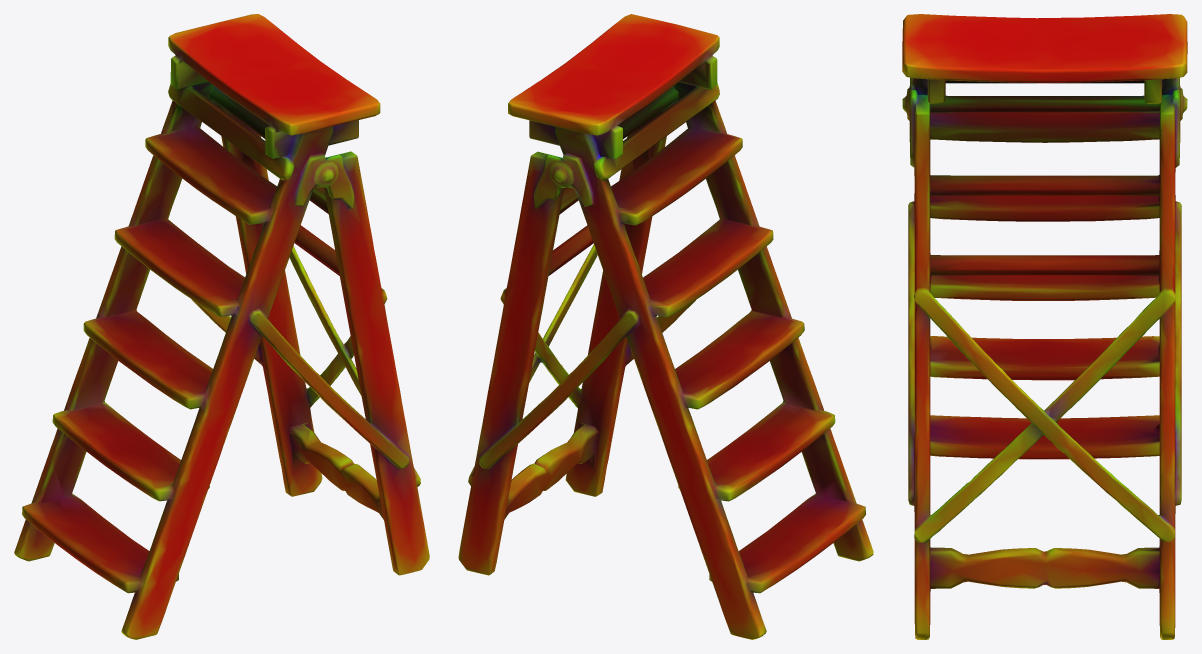
File: StepLadder.fbx
3 renders of one model, left to right at view 1: azimuth 30°, elevation 25°; view 2: azimuth 150°, elevation 25°; view 3: azimuth 270°, elevation 25°, orthographic. The views are drawn at different scales.
Parts seen in each view (by area): view 1: transform1; view 2: transform1; view 3: transform1.
Boxes of the visible parts, <box> form: transform1: <box>14,14,429,639</box>; transform1: <box>458,14,873,639</box>; transform1: <box>902,14,1187,639</box>.
Bounding box in the file's own units: 107 × 76.19 × 162.
